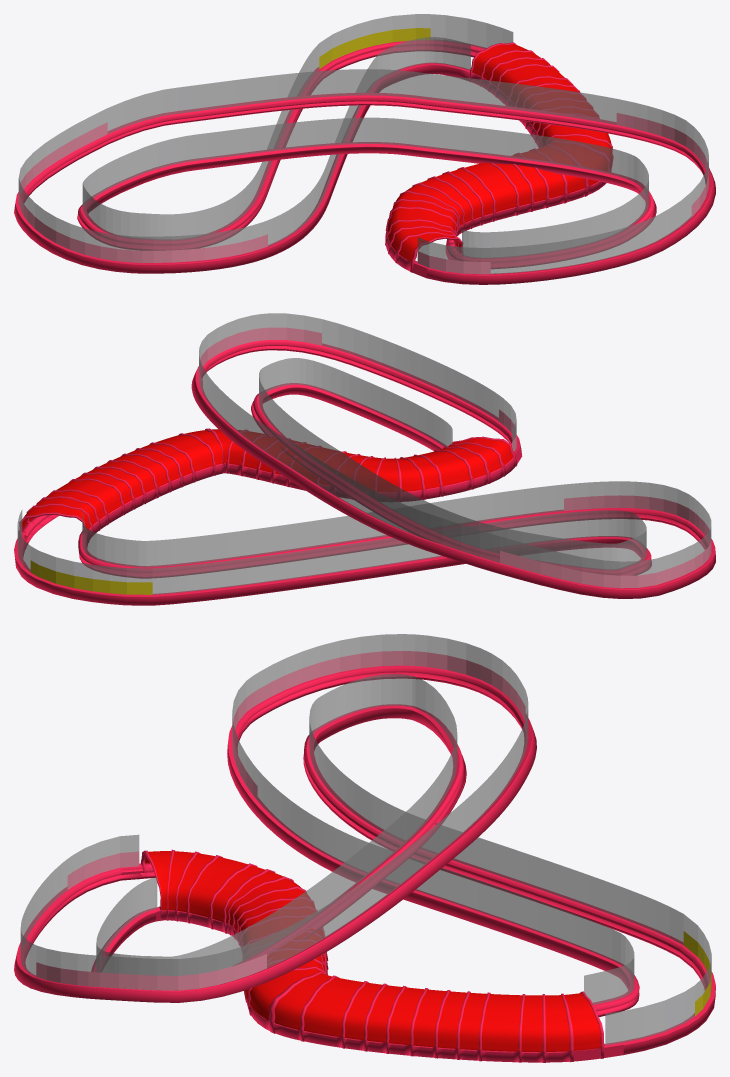
File: new borders.FBX
3 views of the same model, one above another, from view 1: azimuth 30°, elevation 25°; view 2: azimuth 150°, elevation 25°; view 3: azimuth 270°, elevation 25° (orthographic). The views are drawn at different scales.
Visible parts, largest first — view 1: bordes; view 2: bordes; view 3: bordes.
Part boxes in pixels (x1,y1,x2,y2): bordes: (14,14,715,284); bordes: (14,313,715,605); bordes: (14,634,715,1062).
Bounding box in the file's own units: 8102 × 1335 × 6995.
